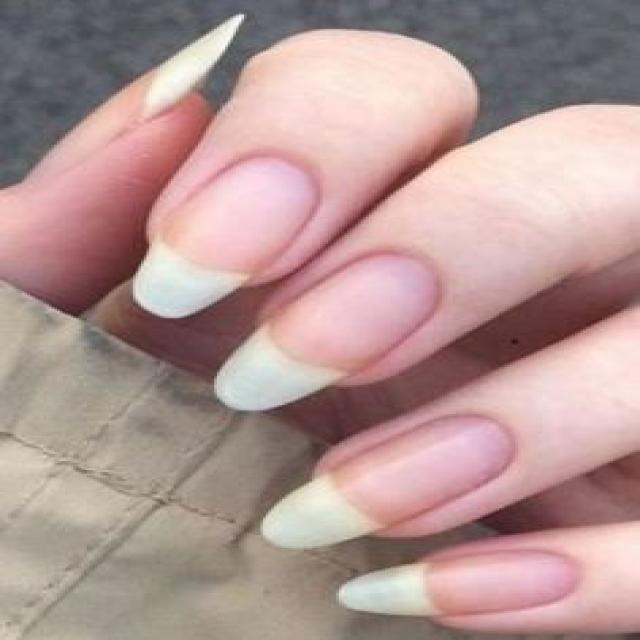nail: (28, 14, 243, 189), (213, 252, 439, 411), (262, 416, 515, 551), (136, 154, 321, 317), (339, 549, 582, 615)
